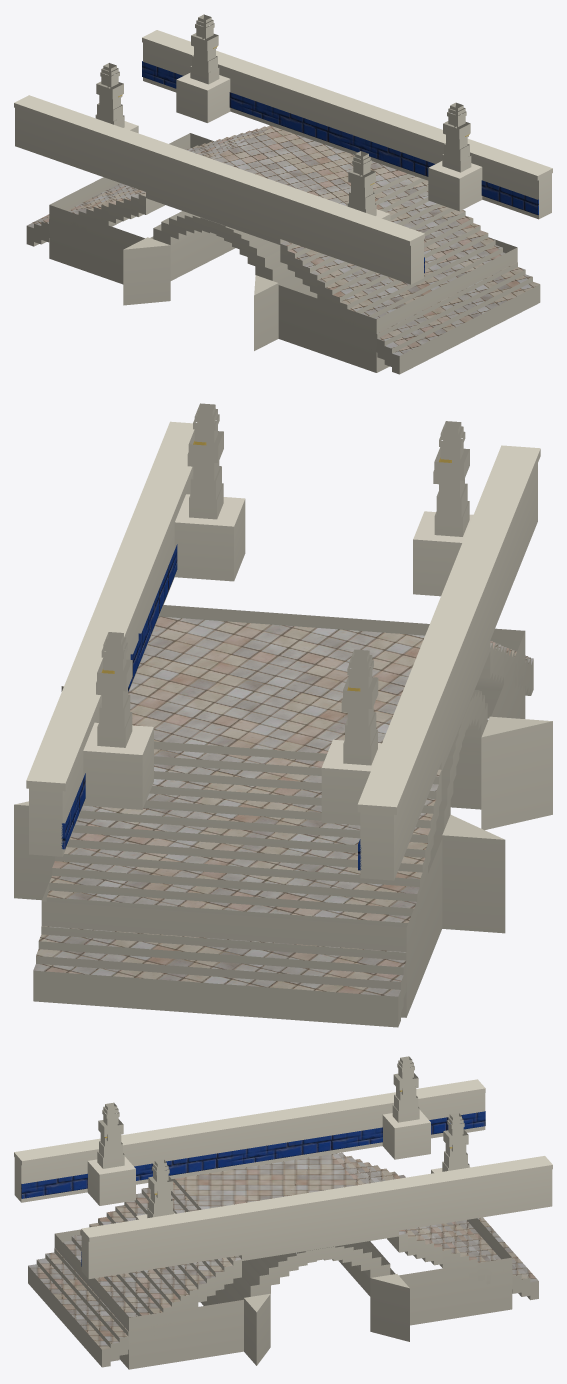
The model's file is uruk_bridge_stone.glb.
The picture shows the model from 3 angles, top to bottom: view 1: azimuth 30°, elevation 25°; view 2: azimuth 150°, elevation 25°; view 3: azimuth 270°, elevation 25°; orthographic projection. The views are drawn at different scales.
Parts seen in each view (by area): view 1: uruk_bridge_stone; view 2: uruk_bridge_stone; view 3: uruk_bridge_stone.
Boxes of the visible parts, x1,y1,x2,y2 form: uruk_bridge_stone: [14, 14, 552, 374]; uruk_bridge_stone: [14, 403, 552, 1027]; uruk_bridge_stone: [14, 1056, 552, 1369].
Bounding box in the file's own units: 9.16 × 5.05 × 13.18.
Materials: 4 (2 with a texture image).
